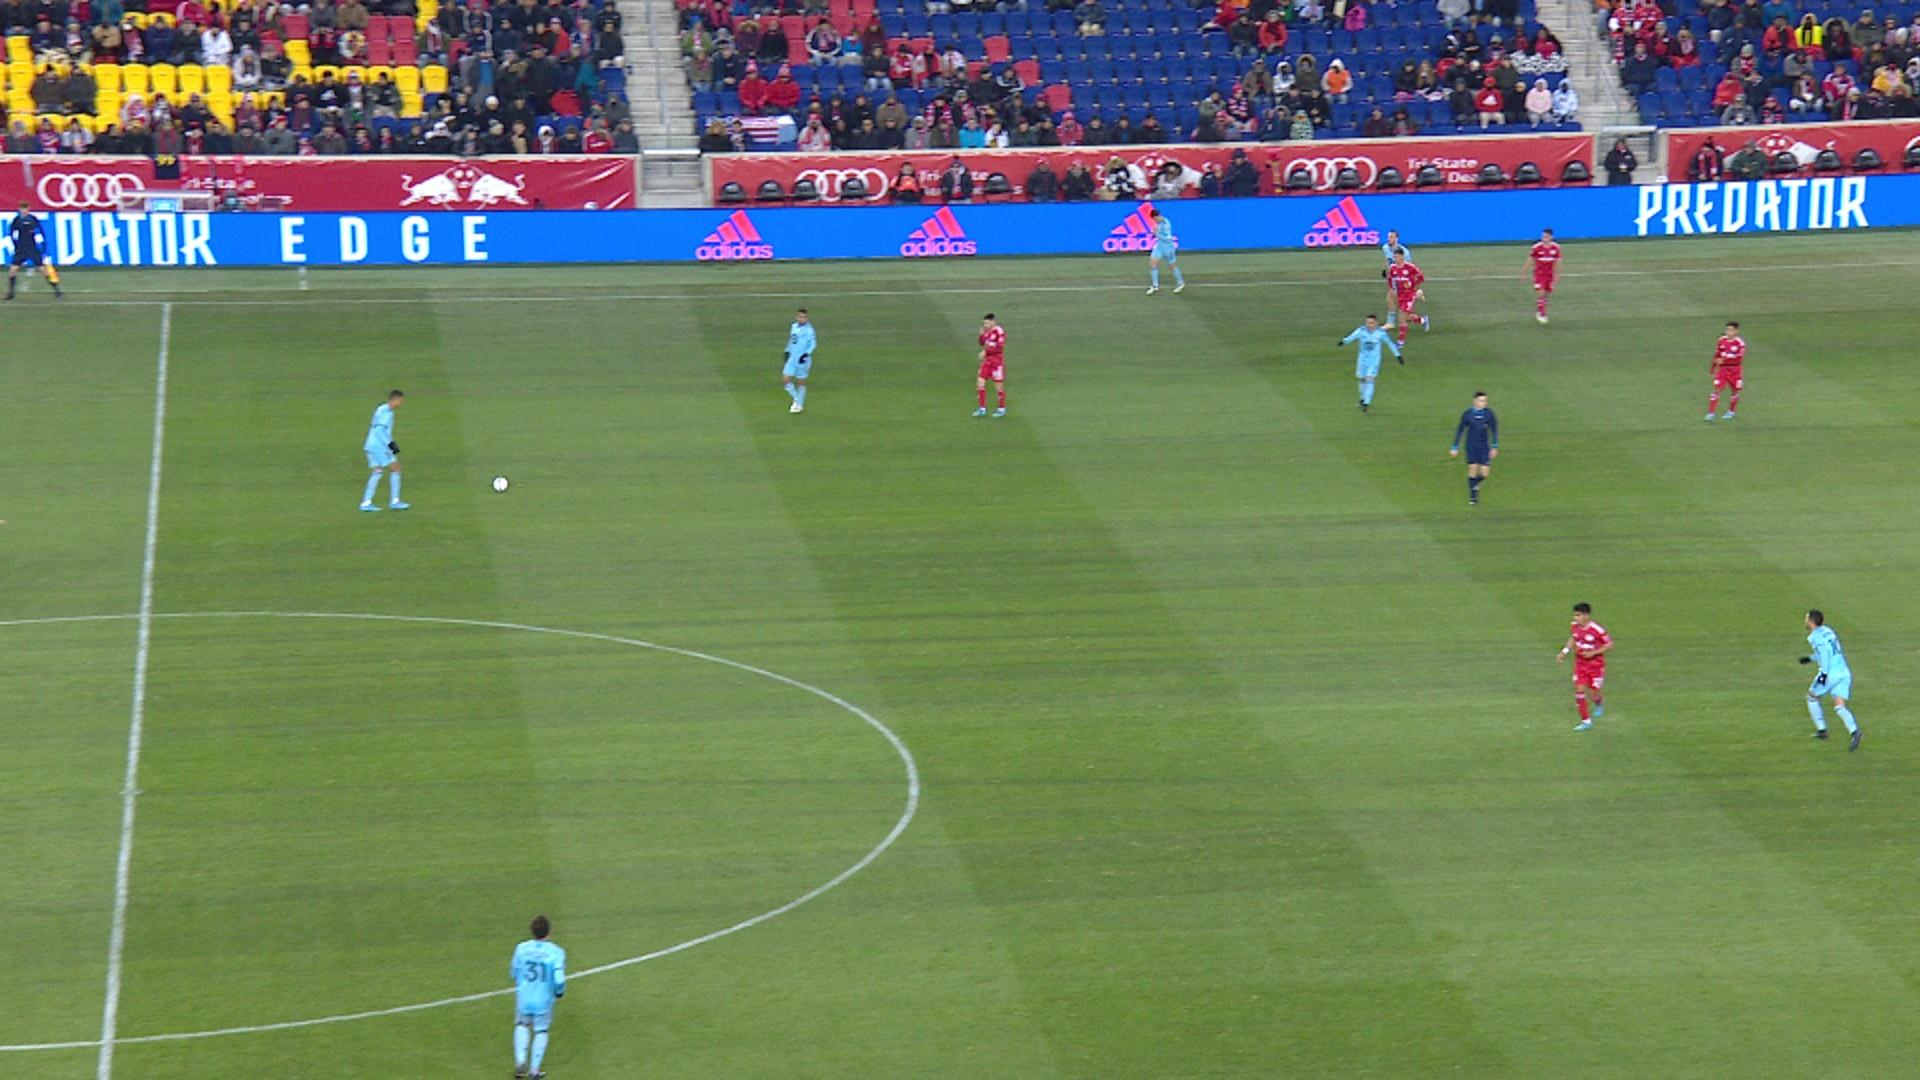football: (493, 475, 510, 493)
